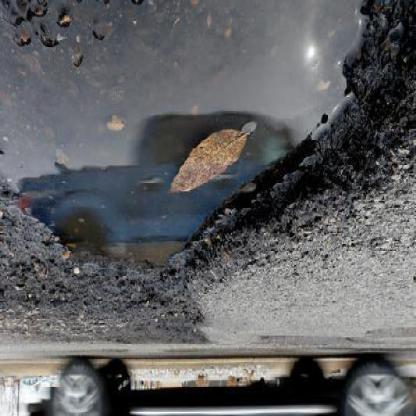pothole: (1, 2, 415, 349)
